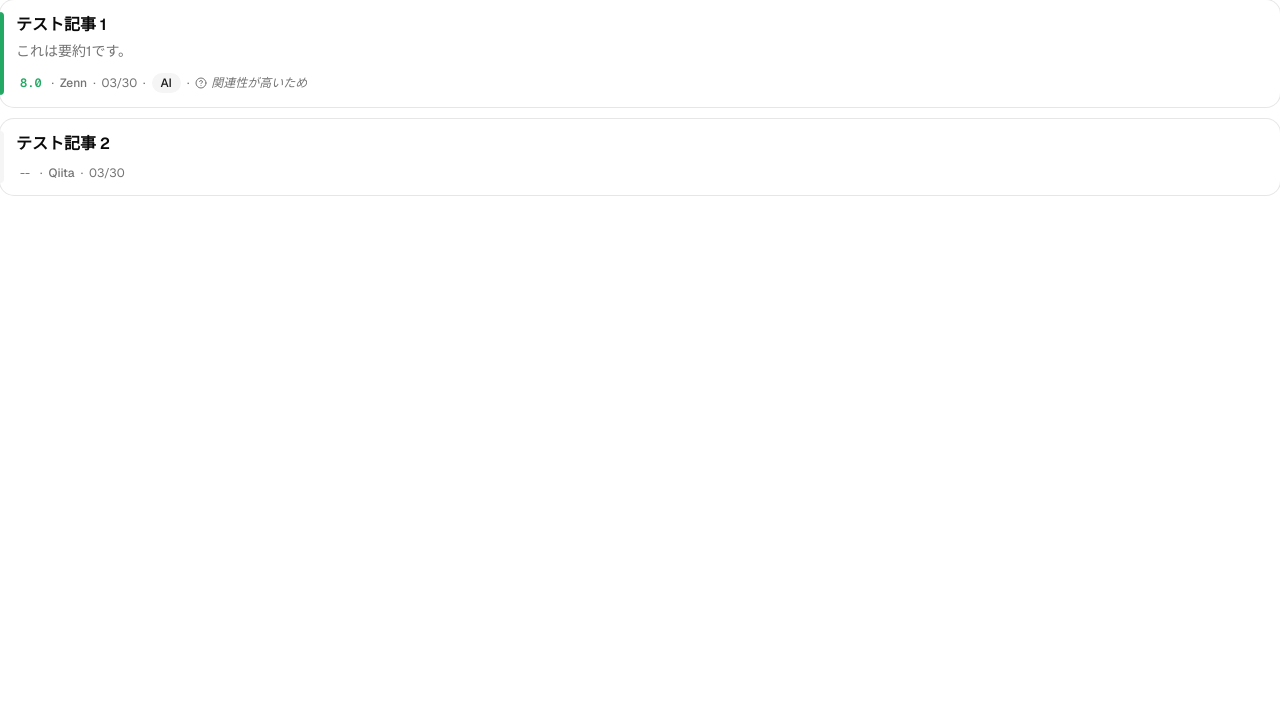
Test: ArticleList › shows score breakdown tooltip on score badge
What coordinates should you click on to do the following:
click the button named "スコア 8、高スコア"
I would click on:
 (31, 83)
Its box is [16,75,46,91].
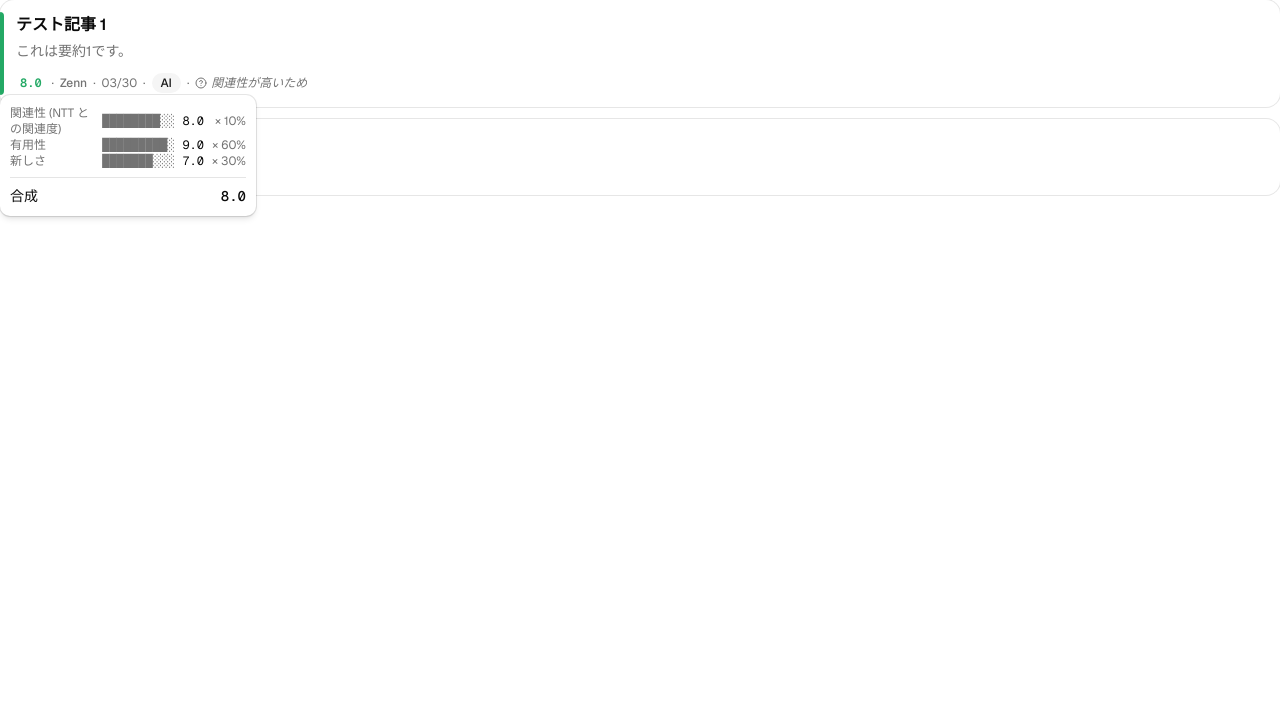
Expected: the text "関連性 (NTT との関連度)" is shown, [10,105,94,137]
Expected: the text "有用性" is shown, [10,137,46,153]
Expected: the text "新しさ" is shown, [10,153,46,169]
